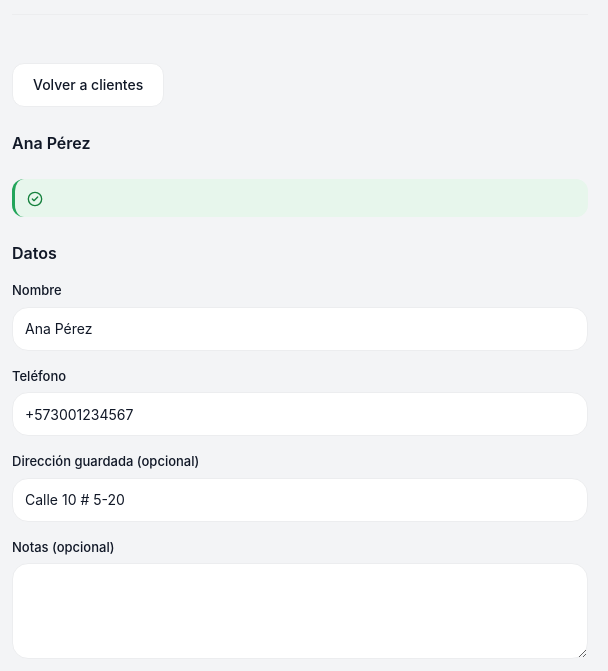
CustomerDetailPage: edición › si el cliente ya fue eliminado avisa y pasa la ficha a solo lectura
Type " Nueva" into the field labelled "Nombre".
click(300, 328); type(" Nueva")  # box [12, 306, 588, 350]
(page scrolled)
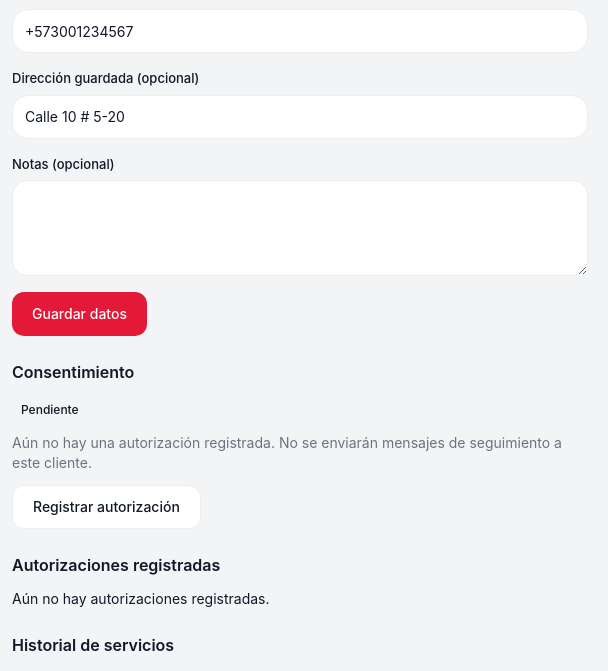
Click the button "Guardar datos".
click(80, 314)  # box [12, 292, 147, 336]
(page scrolled)
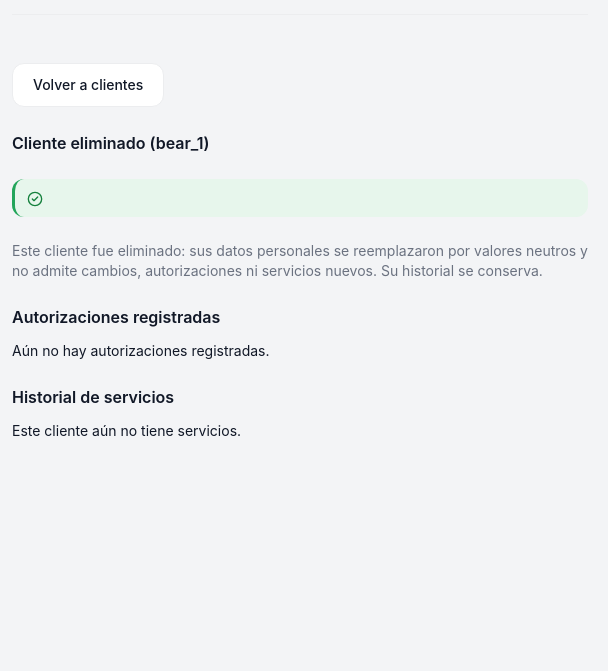
Expected: the heading "Cliente eliminado (bear_1)" is shown, [12, 133, 210, 153]
Expected: the button "Guardar datos" is gone
